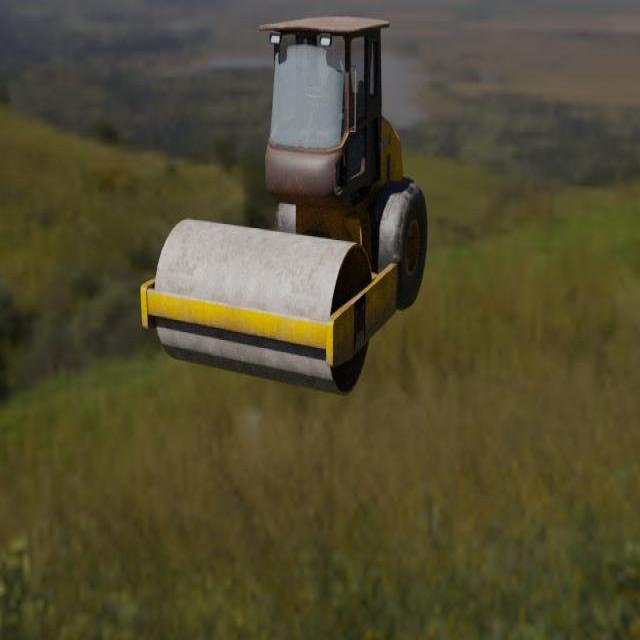Roller: (140, 16, 428, 396)
